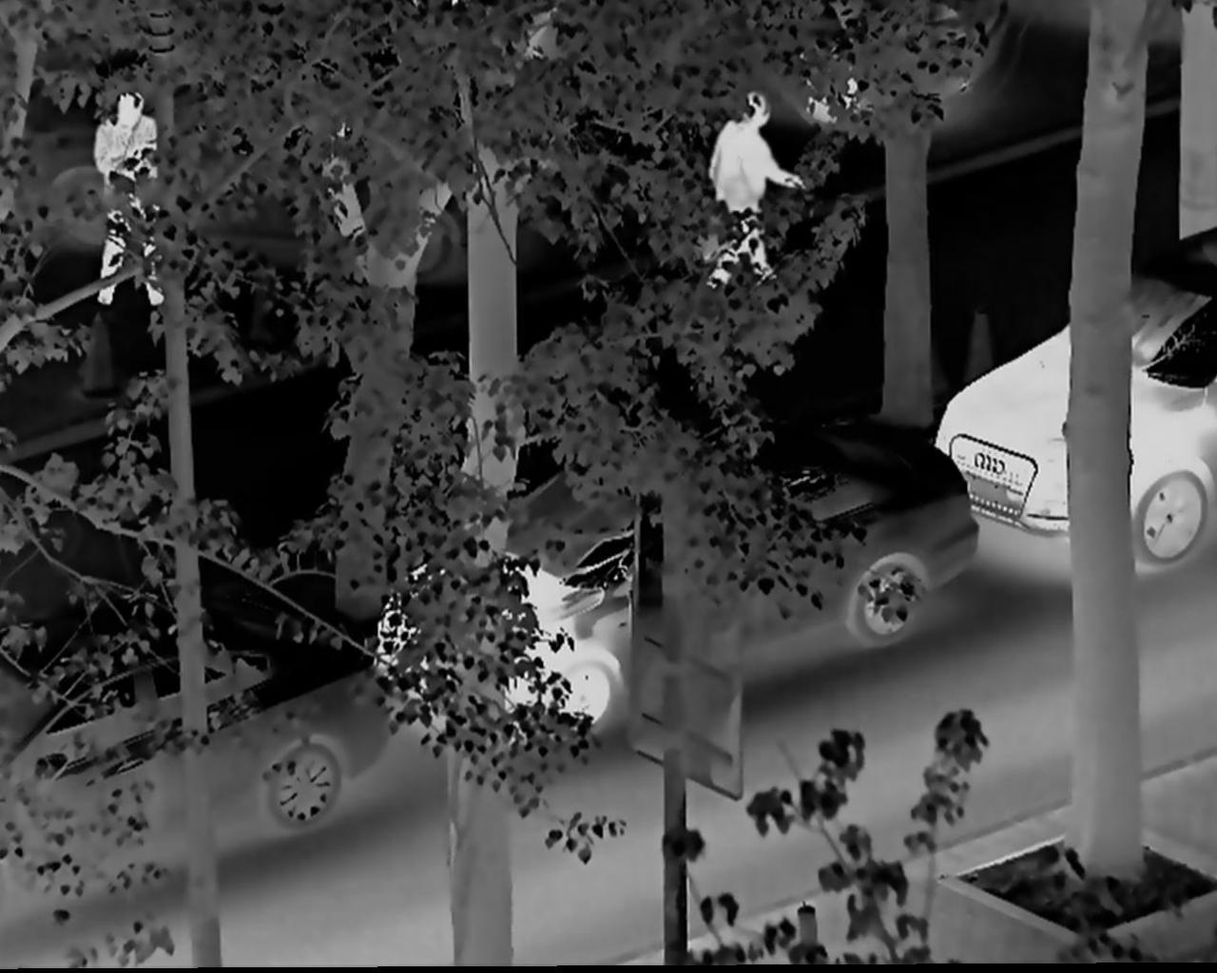person: (701, 86, 802, 314), (89, 90, 175, 309)
